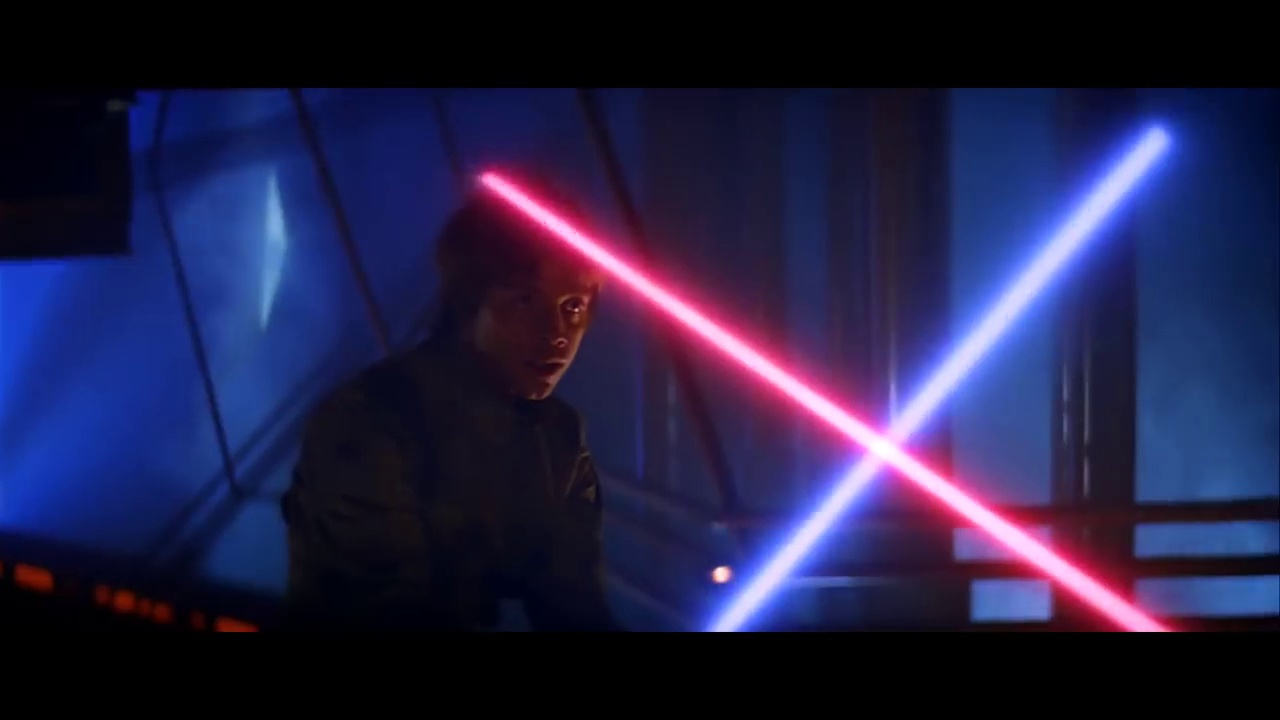lightsaber: (462, 157, 1212, 634)
